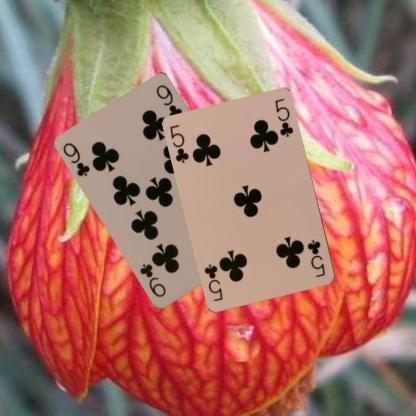5c: (168, 122, 191, 165), (305, 237, 327, 279)
9c: (61, 139, 92, 178)
